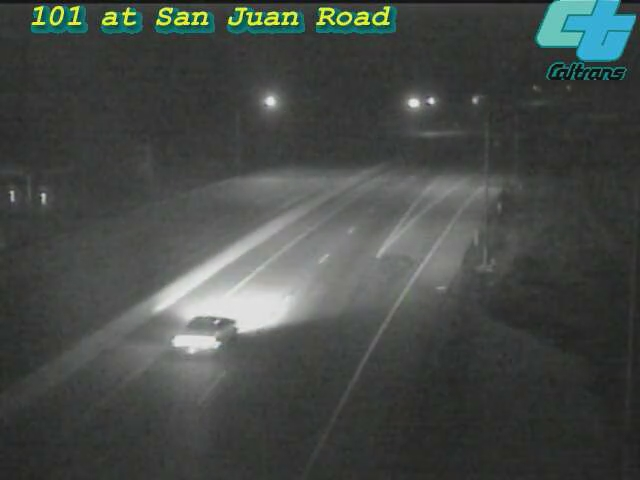vehicle: (142, 279, 252, 389)
